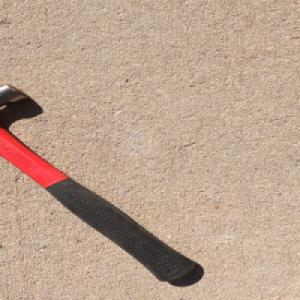Hammer: (0, 80, 199, 282)
